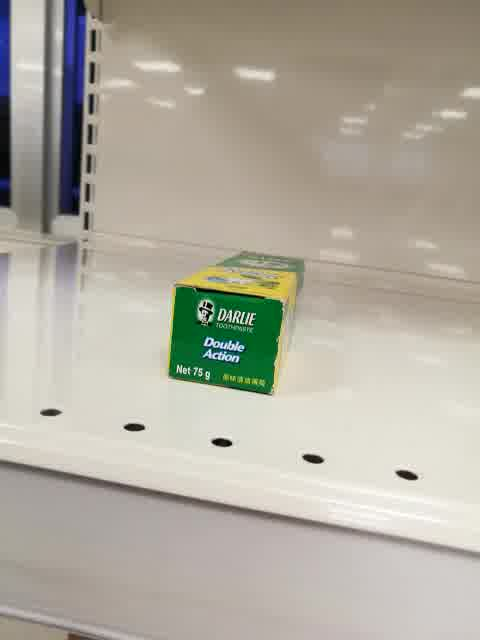toothpaste: (167, 250, 307, 397)
